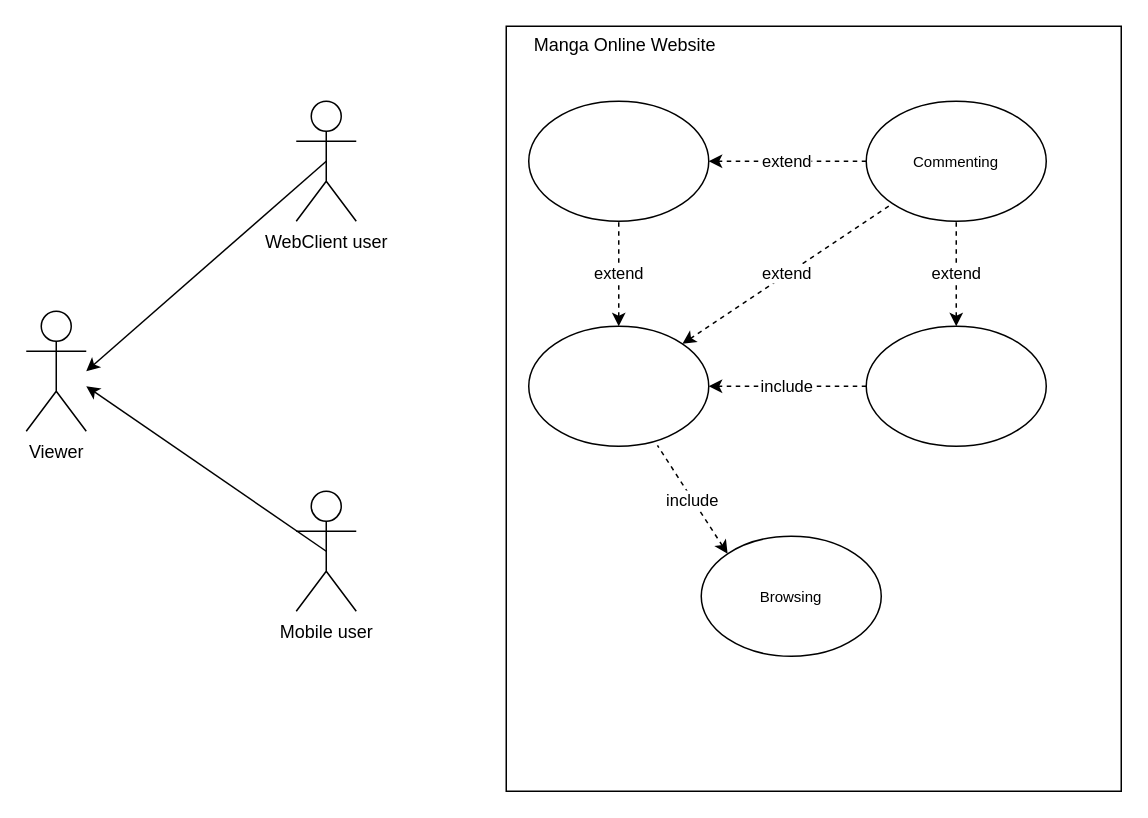
Some shapes in this 1148 by 818 pixel diagram are drawn without their labels. Here are the shapes that lost their labels. From the top down, the centre of each, then its label:
[618,160]: Reviewing
[618,385]: View Manga details
[955,385]: Reading Online
